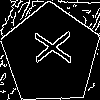X: (25, 30, 71, 65)
